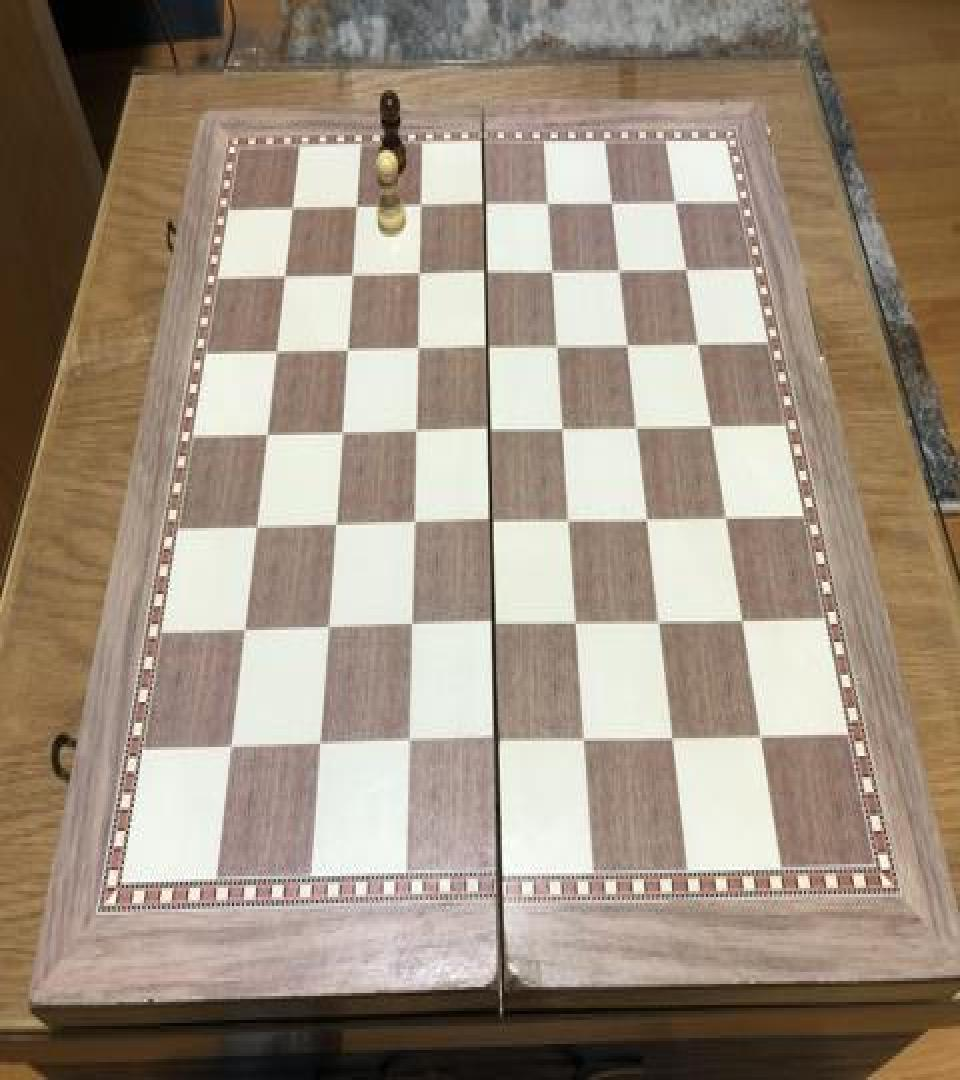xcorner: (648, 601, 672, 638), (662, 718, 686, 755), (397, 727, 421, 764), (662, 180, 686, 216), (598, 183, 622, 219), (535, 184, 559, 220), (471, 186, 495, 222), (343, 189, 367, 225), (279, 190, 303, 226), (673, 248, 697, 284), (606, 250, 630, 286), (540, 252, 564, 288), (473, 254, 497, 290), (406, 255, 430, 291), (339, 258, 363, 294), (685, 322, 709, 358), (615, 324, 639, 360), (545, 327, 569, 363), (404, 330, 428, 366), (334, 333, 358, 369), (263, 334, 287, 370), (699, 405, 723, 441), (625, 406, 649, 442), (551, 410, 575, 446), (477, 411, 501, 447), (403, 414, 427, 450), (329, 416, 353, 452), (254, 417, 278, 453), (714, 496, 738, 532), (636, 498, 660, 534), (558, 501, 582, 537), (479, 504, 503, 540), (401, 506, 425, 542), (322, 508, 346, 544), (244, 510, 268, 546), (731, 598, 755, 634), (565, 604, 589, 640), (482, 608, 506, 644), (399, 609, 423, 645), (316, 612, 340, 648), (232, 615, 256, 651), (750, 716, 774, 752), (574, 722, 598, 758), (485, 724, 509, 760), (308, 730, 332, 766), (219, 732, 243, 768), (407, 188, 431, 223), (272, 260, 296, 295), (475, 329, 499, 364)
